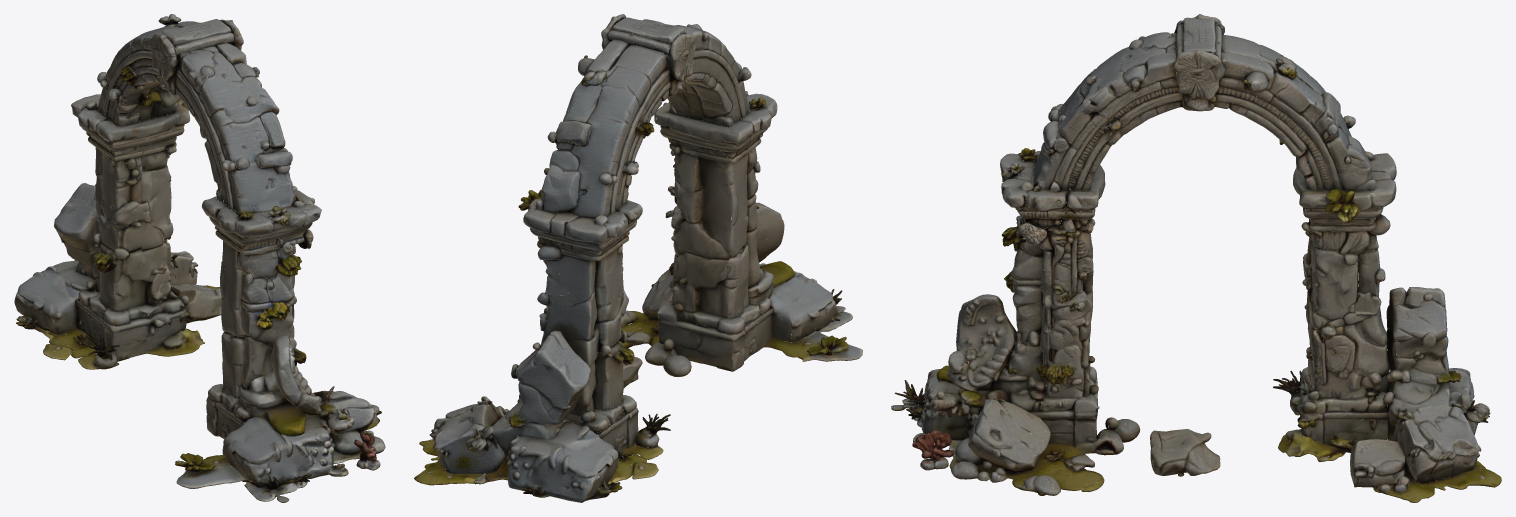
The model's file is Ruin.glb.
The picture shows the model from 3 angles, left to right: view 1: azimuth 30°, elevation 25°; view 2: azimuth 150°, elevation 25°; view 3: azimuth 270°, elevation 25°; orthographic projection. The views are drawn at different scales.
Parts seen in each view (by area): view 1: tripo_node_f2ef9e18-538d-4231-bf65-5fb28a3f5c76; view 2: tripo_node_f2ef9e18-538d-4231-bf65-5fb28a3f5c76; view 3: tripo_node_f2ef9e18-538d-4231-bf65-5fb28a3f5c76.
Part boxes in pixels (bbox=[...]): tripo_node_f2ef9e18-538d-4231-bf65-5fb28a3f5c76: bbox=[14, 14, 385, 502]; tripo_node_f2ef9e18-538d-4231-bf65-5fb28a3f5c76: bbox=[414, 14, 862, 502]; tripo_node_f2ef9e18-538d-4231-bf65-5fb28a3f5c76: bbox=[891, 14, 1501, 502].
Size of the model in its own units: 0.4951 by 0.7326 by 1.
1 material, 1 textured.
